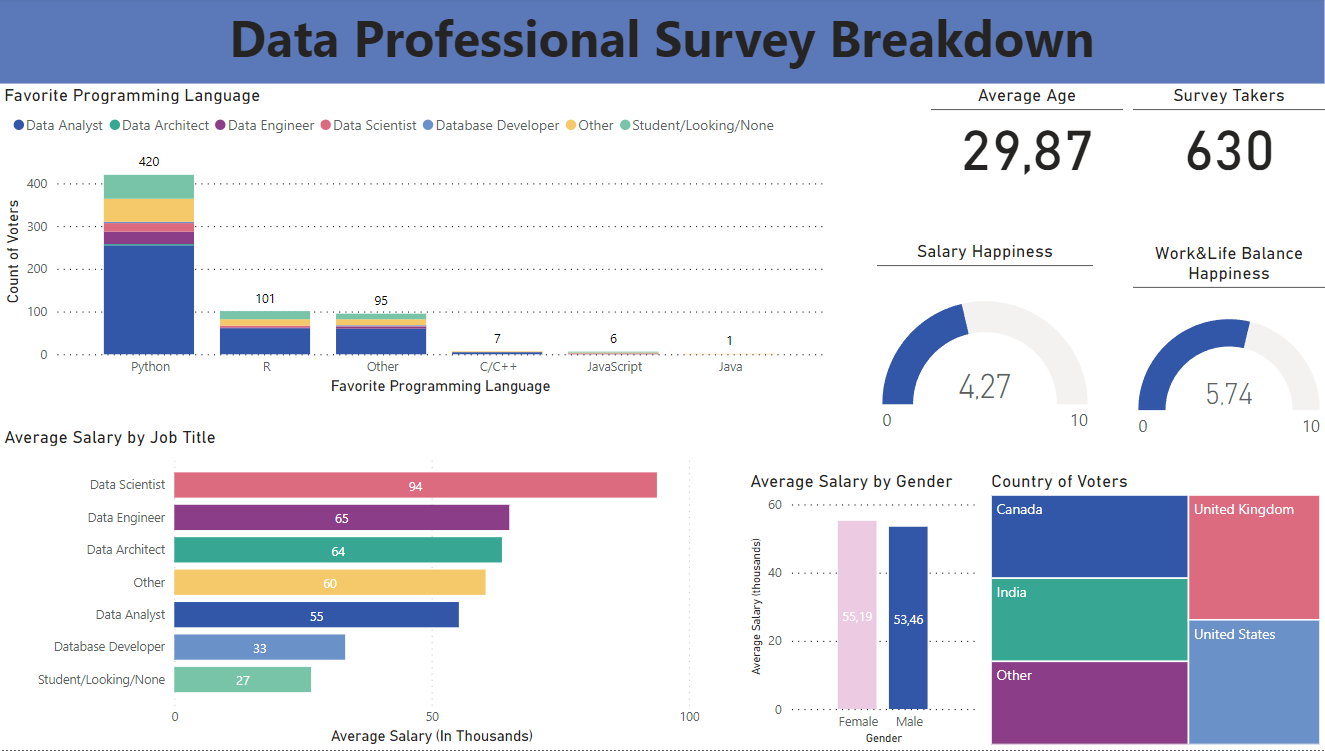

Layout of this report page (visuals, bound fields, positions):
{"tool":"powerbi","page":{"name":"Page 1","canvas":[1280,720],"ordinal":0},"visuals":[{"type":"textbox","box":[9.7,0,1270.3,81.7],"z":0},{"type":"card","title":"Survey Takers","fields":{"Values":["CountNonNull(Data Professional Survey.Unique ID)"]},"box":[1095.9,82,184.1,107.3],"z":1000},{"type":"card","title":"Average Age","fields":{"Values":["Avg(Data Professional Survey.Q10 - Current Age)"]},"box":[902.4,82,184.1,107.3],"z":2000},{"type":"barChart","title":"Average Salary by Job Title","fields":{"Category":["Data Professional Survey.Q1 - Which Title Best Fits your Current Role?.1"],"Y":["Avg(Data Professional Survey.Average Salary)"],"Series":["Data Professional Survey.Q1 - Which Title Best Fits your Current Role?.1"]},"box":[9.5,410.2,676.3,310.3],"z":3000},{"type":"columnChart","title":"Favorite Programming Language","fields":{"Category":["Data Professional Survey.Q5 - Favorite Programming Language.1"],"Y":["CountNonNull(Data Professional Survey.Unique ID)"],"Series":["Data Professional Survey.Q1 - Which Title Best Fits your Current Role?.1"]},"box":[9.5,82,795.1,301.9],"z":4000},{"type":"treemap","title":"Country of Voters","fields":{"Group":["Data Professional Survey.Q11 - Which Country do you live in?.1"],"Values":["Count(Data Professional Survey.Q11 - Which Country do you live in?.1)"]},"box":[955,452.3,325,268.2],"z":5000},{"type":"gauge","title":"Salary Happiness","fields":{"Y":["Avg(Data Professional Survey.Q6 - How Happy are you in your Current Position with the following? (Salary))"],"MinValue":["Min(Data Professional Survey.Q6 - How Happy are you in your Current Position with the following? (Salary))"],"MaxValue":["Max(Data Professional Survey.Q6 - How Happy are you in your Current Position with the following? (Salary))1"]},"box":[850.9,231.4,207.2,220.9],"z":6000},{"type":"gauge","title":"Work&Life Balance Happiness","fields":{"Y":["Avg(Data Professional Survey.Q6 - How Happy are you in your Current Position with the following? (Work/Life Balance))"],"MinValue":["Min(Data Professional Survey.Q6 - How Happy are you in your Current Position with the following? (Work/Life Balance))"],"MaxValue":["Max(Data Professional Survey.Q6 - How Happy are you in your Current Position with the following? (Work/Life Balance))"],"TargetValue":["Sum(Data Professional Survey.Q6 - How Happy are you in your Current Position with the following? (Work/Life Balance))"]},"box":[1095.9,233.5,184.1,220.9],"z":7000},{"type":"columnChart","title":"Average Salary by Gender","fields":{"Category":["Data Professional Survey.Q9 - Male/Female?"],"Y":["Avg(Data Professional Survey.Average Salary)"]},"box":[724.7,452.3,226.1,268.2],"z":8000}]}

Visuals, with their boxes in screenshot pixels (x1, y1, x2, y2), scaled from the page's 1280x720 canvas onto the 1325x751 screenshot:
textbox: locate(10, 0, 1324, 85)
"Survey Takers" card: locate(1134, 86, 1324, 197)
"Average Age" card: locate(934, 86, 1125, 197)
"Average Salary by Job Title" barChart: locate(10, 428, 710, 750)
"Favorite Programming Language" columnChart: locate(10, 86, 833, 400)
"Country of Voters" treemap: locate(989, 472, 1324, 750)
"Salary Happiness" gauge: locate(881, 241, 1095, 472)
"Work&Life Balance Happiness" gauge: locate(1134, 244, 1324, 474)
"Average Salary by Gender" columnChart: locate(750, 472, 984, 750)
